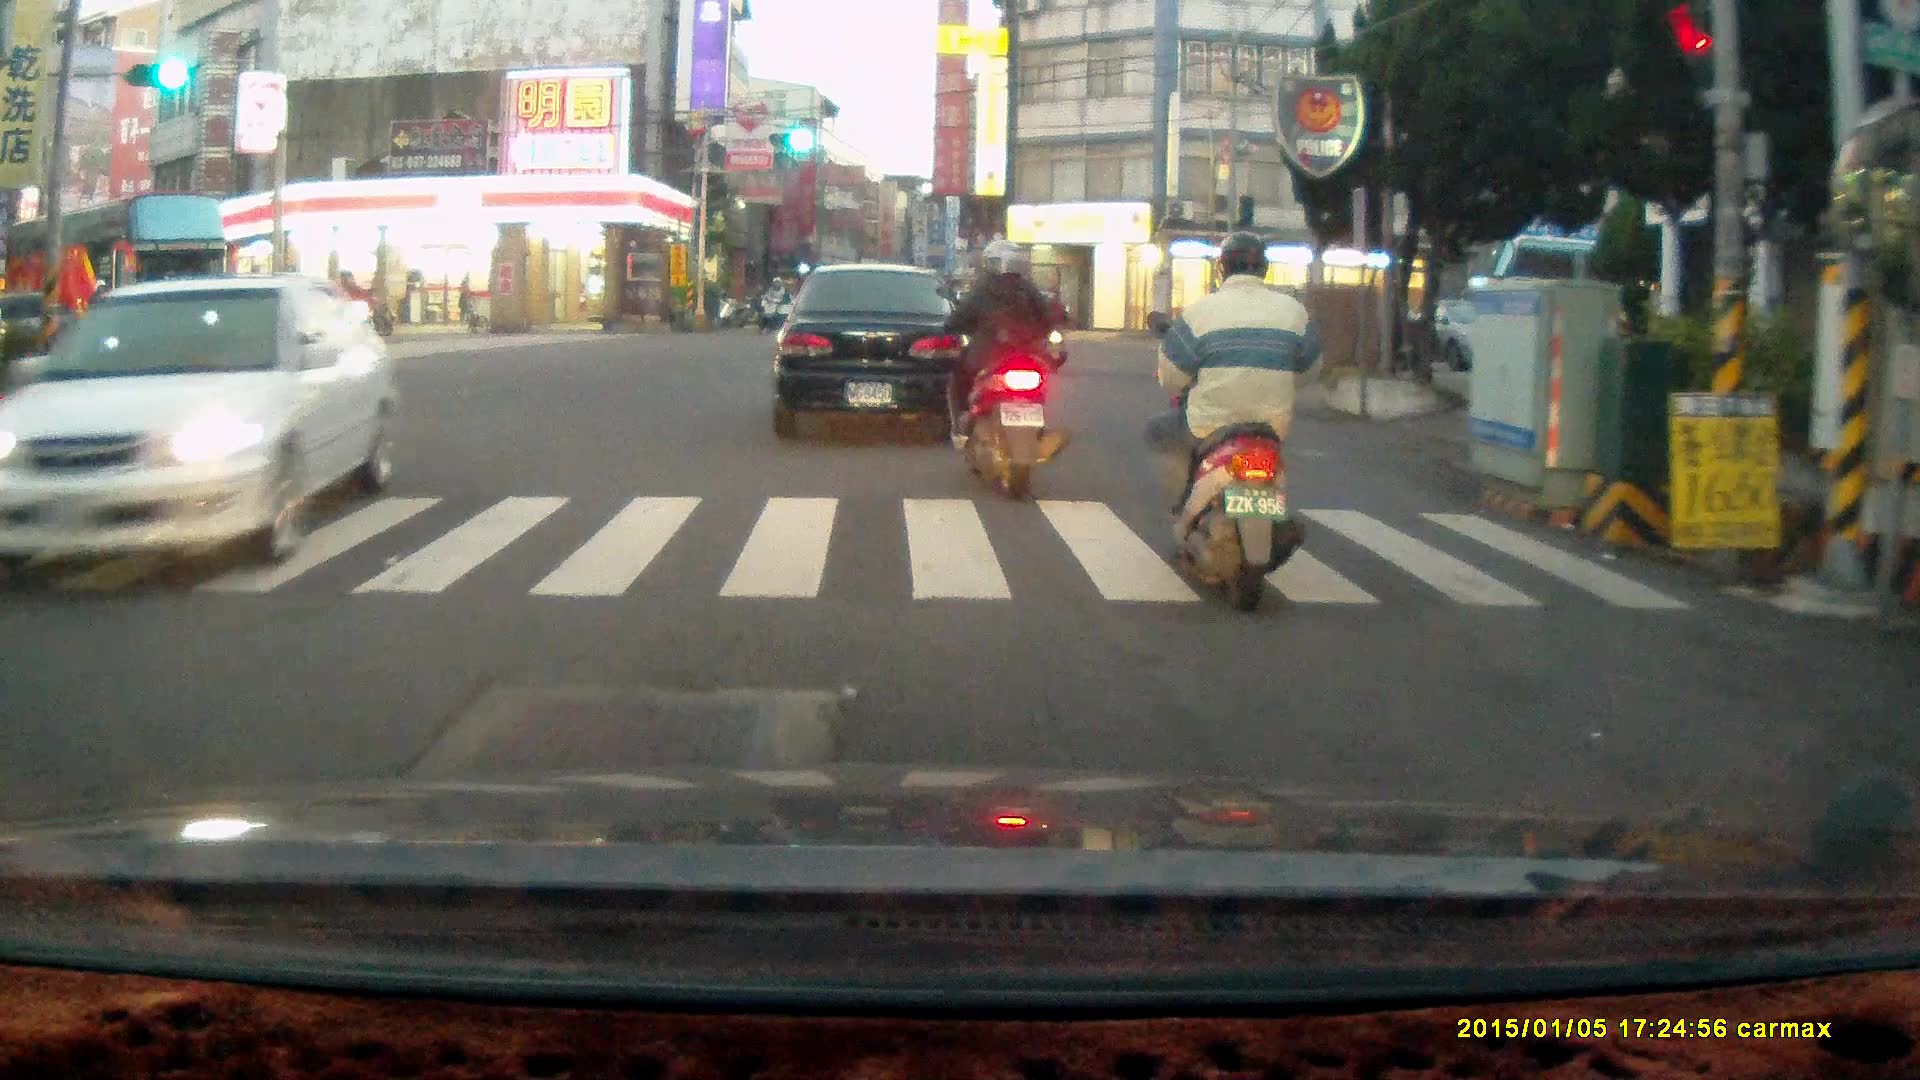rider: (1140, 228, 1313, 616), (934, 232, 1070, 499), (756, 274, 786, 328)
vehicle: (14, 276, 392, 631), (768, 261, 981, 442), (14, 192, 233, 354)
